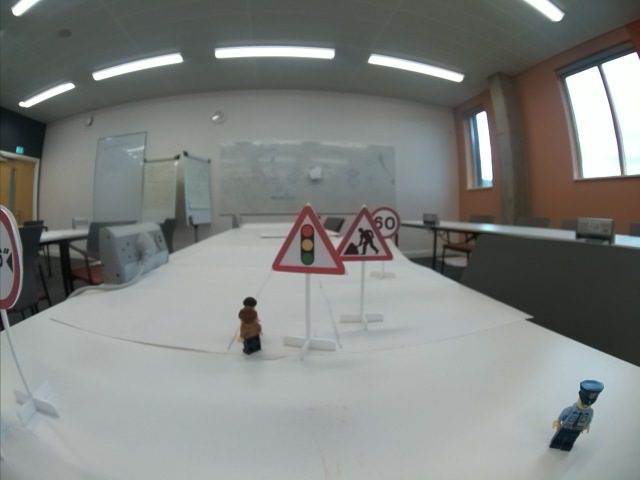60mph: (370, 207, 402, 238)
Lego Man: (546, 380, 605, 452), (238, 297, 262, 356)
Roadworks: (337, 207, 393, 262)
Traffic lights: (273, 204, 344, 272)
